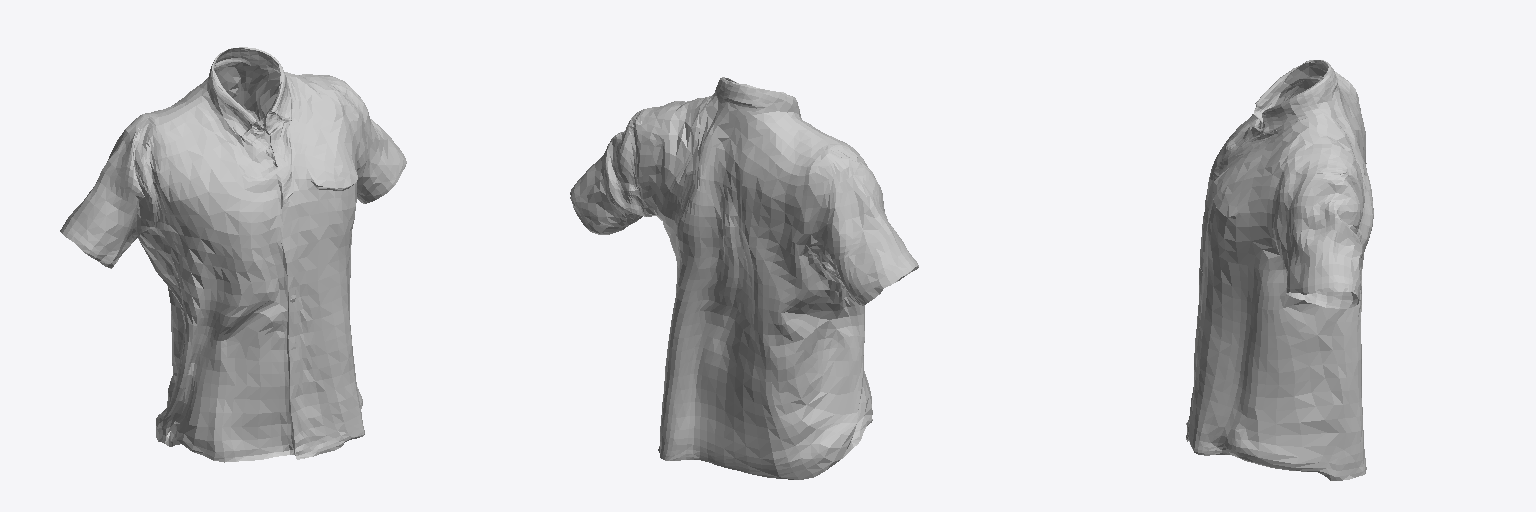
Rendered from yifuS.obj.
3 renders of one model, left to right at view 1: azimuth 30°, elevation 25°; view 2: azimuth 150°, elevation 25°; view 3: azimuth 270°, elevation 25°, orthographic.
Parts seen in each view (by area): view 1: Lino; view 2: Lino; view 3: Lino.
Boxes of the visible parts, box(x1,y1,x2,y2) form: Lino: box(60, 47, 406, 462); Lino: box(570, 77, 918, 479); Lino: box(1186, 60, 1373, 480).
Bounding box in the file's own units: 28.56 × 30.82 × 13.81.